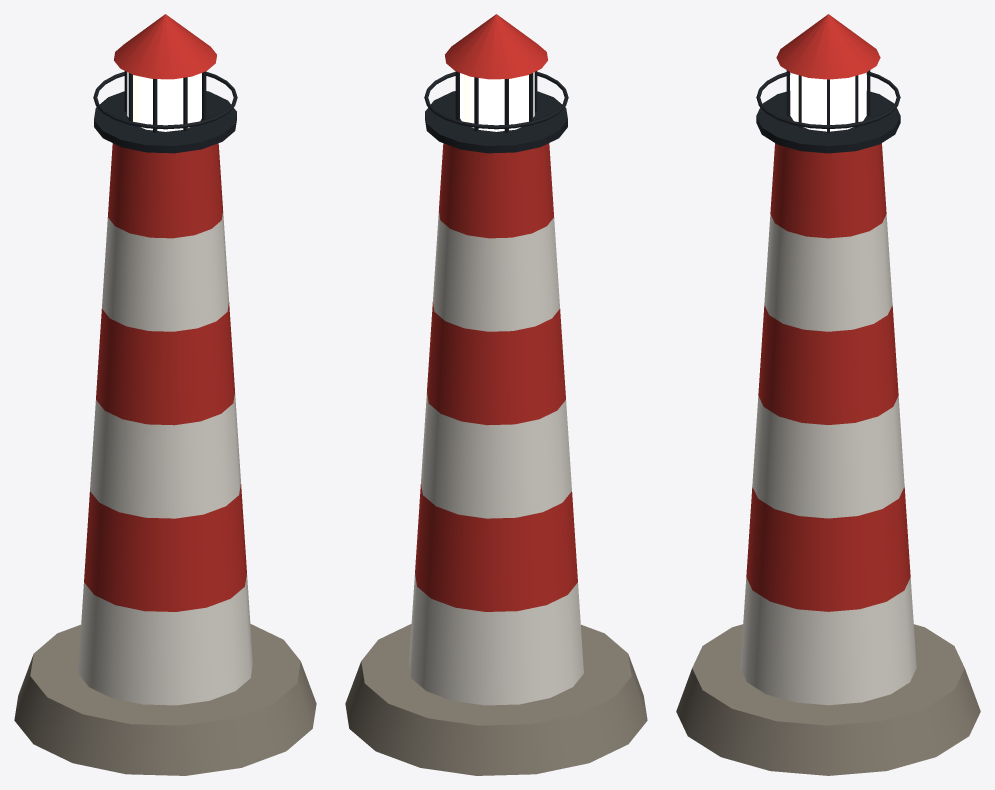
Rendered from lighthouse.glb.
3 renders of one model, left to right at view 1: azimuth 30°, elevation 25°; view 2: azimuth 150°, elevation 25°; view 3: azimuth 270°, elevation 25°, orthographic.
Parts seen in each view (by area): view 1: lighthouse white, lighthouse red, lighthouse stone, lighthouse dark, lighthouse lamp; view 2: lighthouse white, lighthouse red, lighthouse stone, lighthouse dark, lighthouse lamp; view 3: lighthouse white, lighthouse red, lighthouse stone, lighthouse dark, lighthouse lamp.
Boxes of the visible parts, <box> form: lighthouse white: <box>78,211,252,705</box>; lighthouse red: <box>84,14,246,611</box>; lighthouse stone: <box>14,624,316,775</box>; lighthouse dark: <box>93,71,237,153</box>; lighthouse lamp: <box>127,72,201,131</box>; lighthouse white: <box>409,211,583,705</box>; lighthouse red: <box>415,14,577,611</box>; lighthouse stone: <box>345,624,647,775</box>; lighthouse dark: <box>424,71,568,153</box>; lighthouse lamp: <box>460,72,534,131</box>; lighthouse white: <box>740,214,916,705</box>; lighthouse red: <box>746,14,910,611</box>; lighthouse stone: <box>676,624,980,775</box>; lighthouse dark: <box>756,70,900,153</box>; lighthouse lamp: <box>790,72,866,131</box>.
Bounding box in the file's own units: 7.6 × 19.2 × 7.6.
